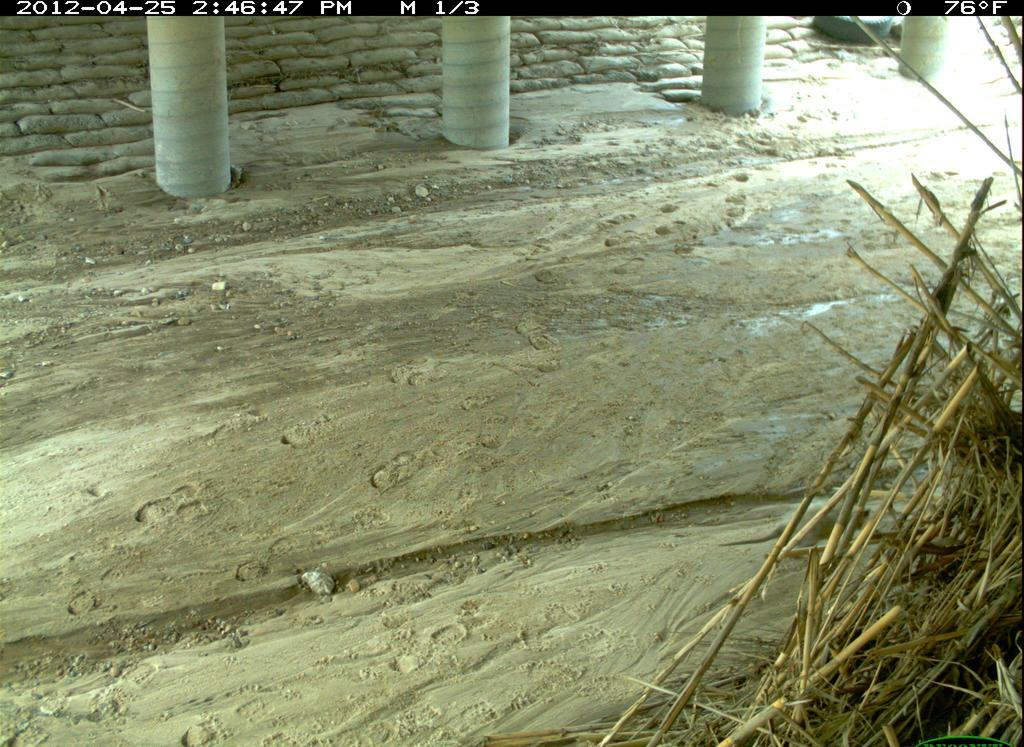opossum: (716, 495, 876, 570)
